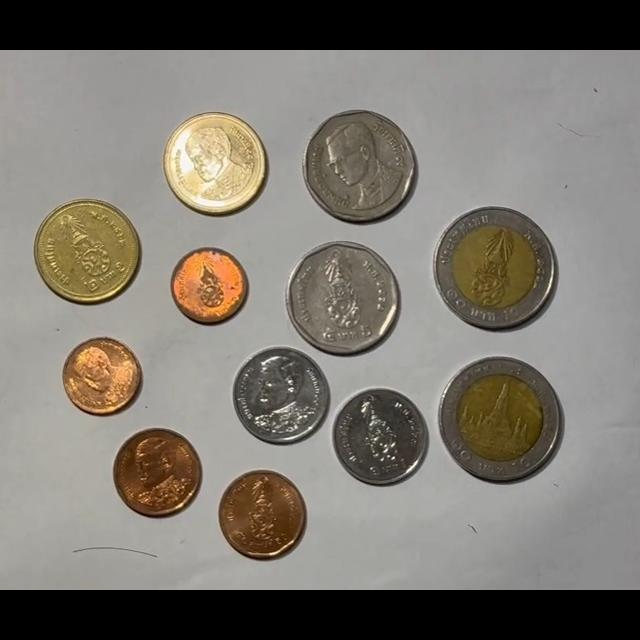1-baht: (332, 388, 430, 486), (232, 346, 329, 444)
10-baht: (438, 357, 564, 482), (432, 206, 557, 330)
2-baht: (34, 200, 139, 304), (163, 112, 268, 216)
25-satang: (62, 337, 141, 416), (170, 247, 248, 324)
5-baht: (285, 241, 400, 355), (302, 109, 418, 222)
50-satang: (218, 470, 306, 559), (113, 428, 201, 517)
